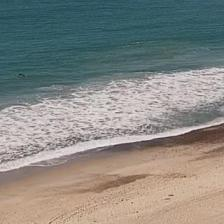surfer: (18, 73, 26, 76)
